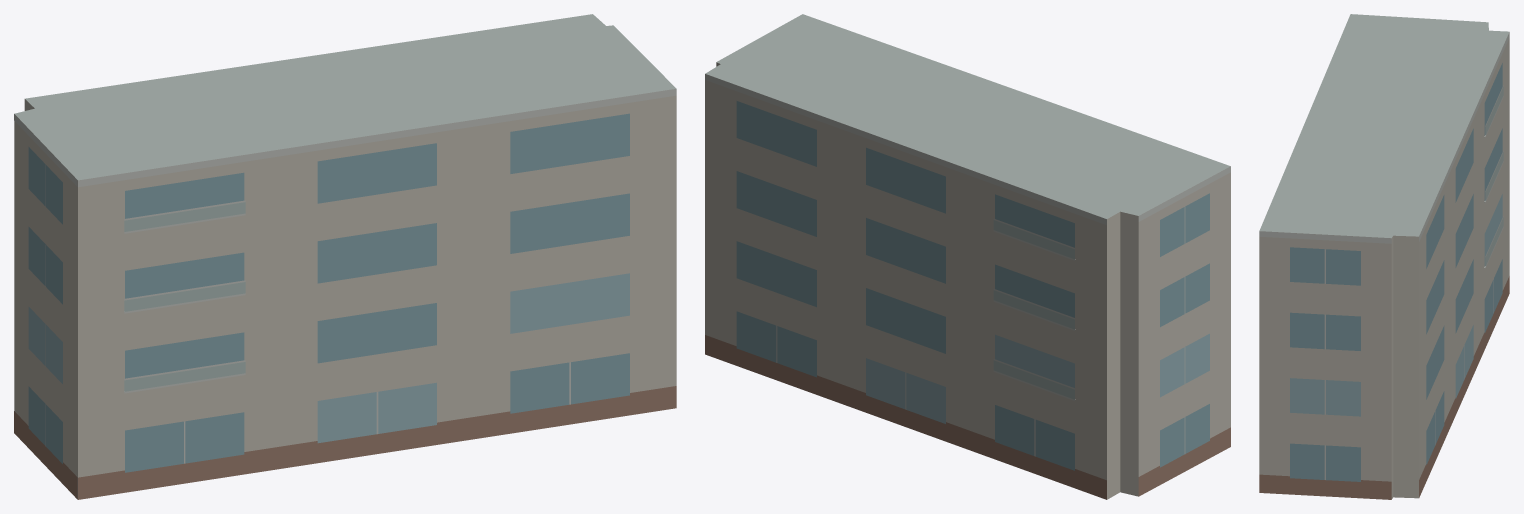
File: survey-upis-32521338.glb
3 renders of one model, left to right at view 1: azimuth 30°, elevation 25°; view 2: azimuth 150°, elevation 25°; view 3: azimuth 270°, elevation 25°, orthographic. The views are drawn at different scales.
Parts seen in each view (by area): view 1: survey-upis-32521338.tmp; view 2: survey-upis-32521338.tmp; view 3: survey-upis-32521338.tmp.
Boxes of the visible parts, x1,y1,x2,y2 form: survey-upis-32521338.tmp: (14, 14, 676, 499); survey-upis-32521338.tmp: (705, 14, 1230, 499); survey-upis-32521338.tmp: (1259, 14, 1509, 499).
Bounding box in the file's own units: 20.77 × 11.3 × 9.81.
